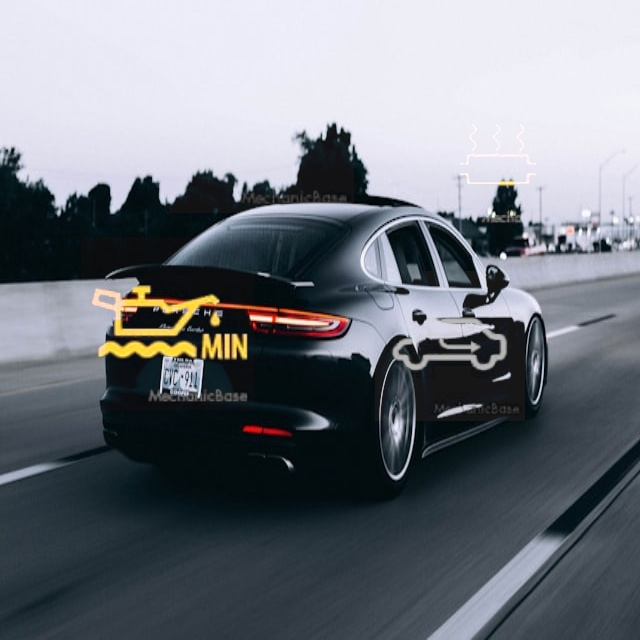symbol: (169, 28, 354, 213), (81, 237, 254, 410), (423, 79, 574, 230), (375, 271, 525, 421)
